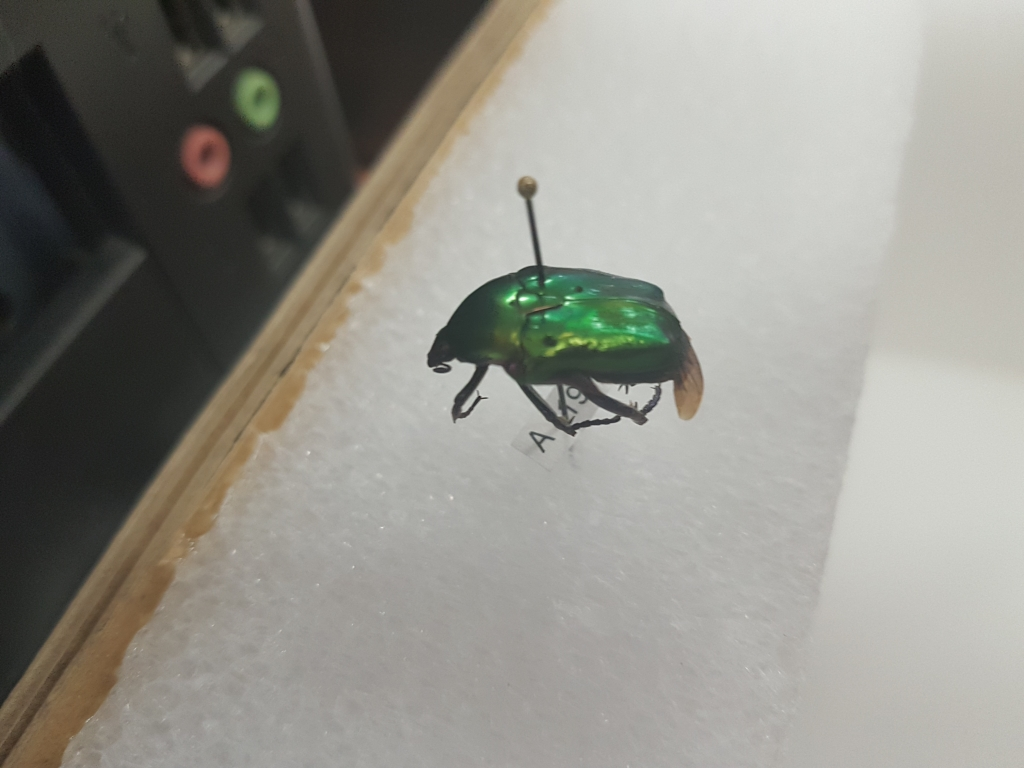Protaetia_cuprea_ignicollis: (420, 259, 709, 435)
